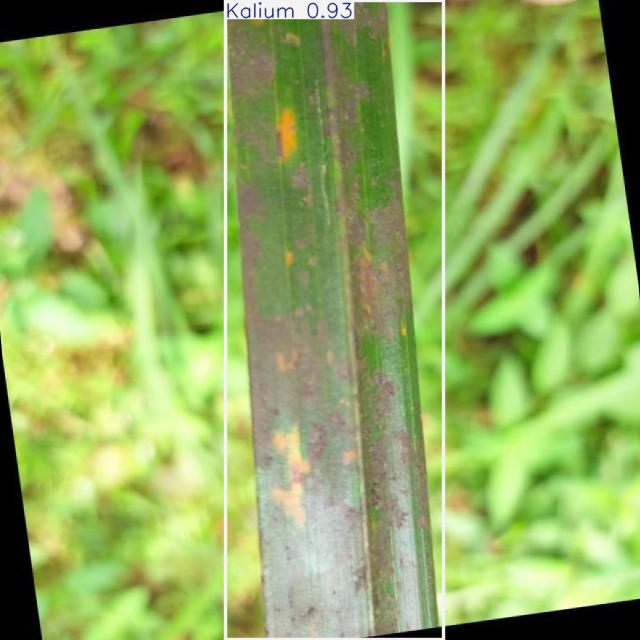Kalium: (226, 1, 443, 640)
